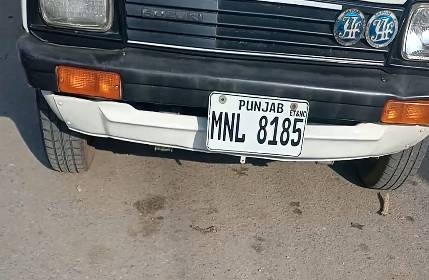number_plate: (207, 90, 310, 160)
